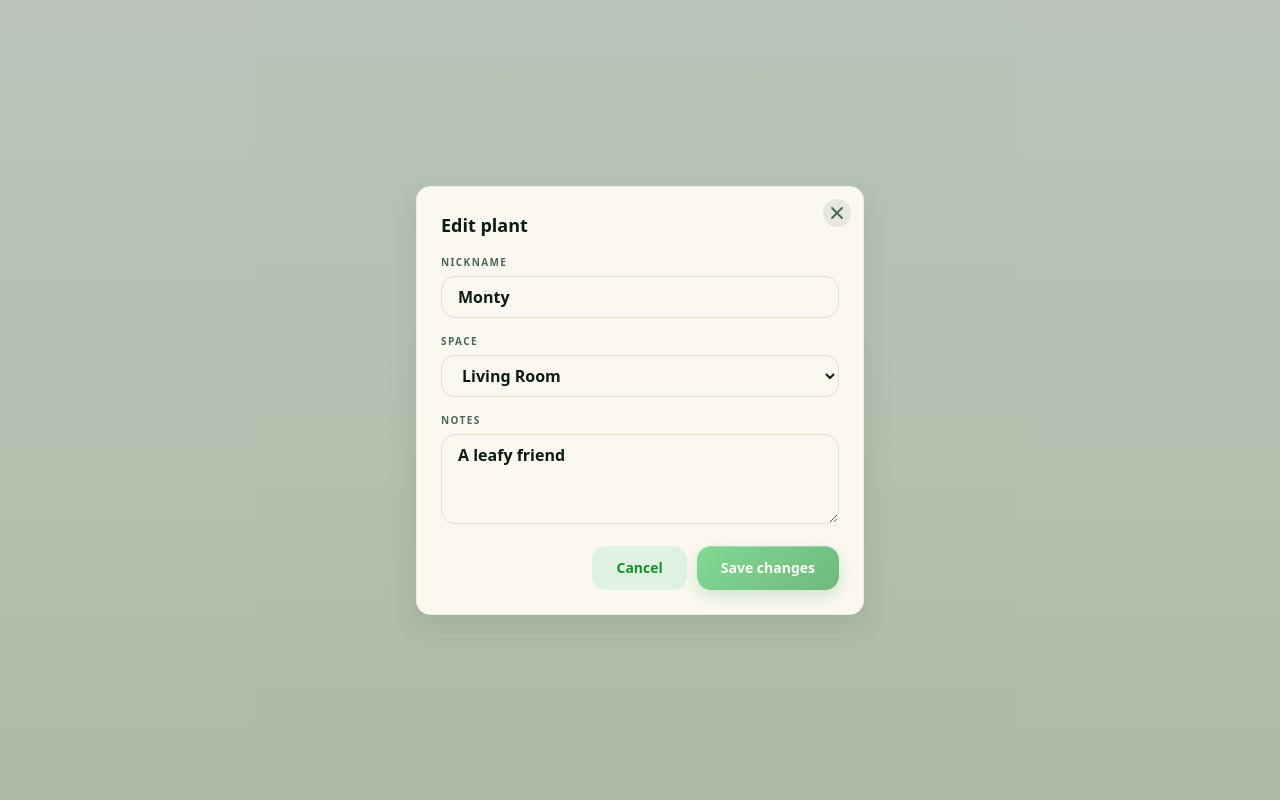
EditPlantDialog › disables Save changes until a field changes
Expected: the button "Save changes" is disabled, left=697, top=546, right=839, bottom=590
Replace the text in the field showing "Monty" with "Monty II". click: (640, 296)
box: left=441, top=276, right=839, bottom=318
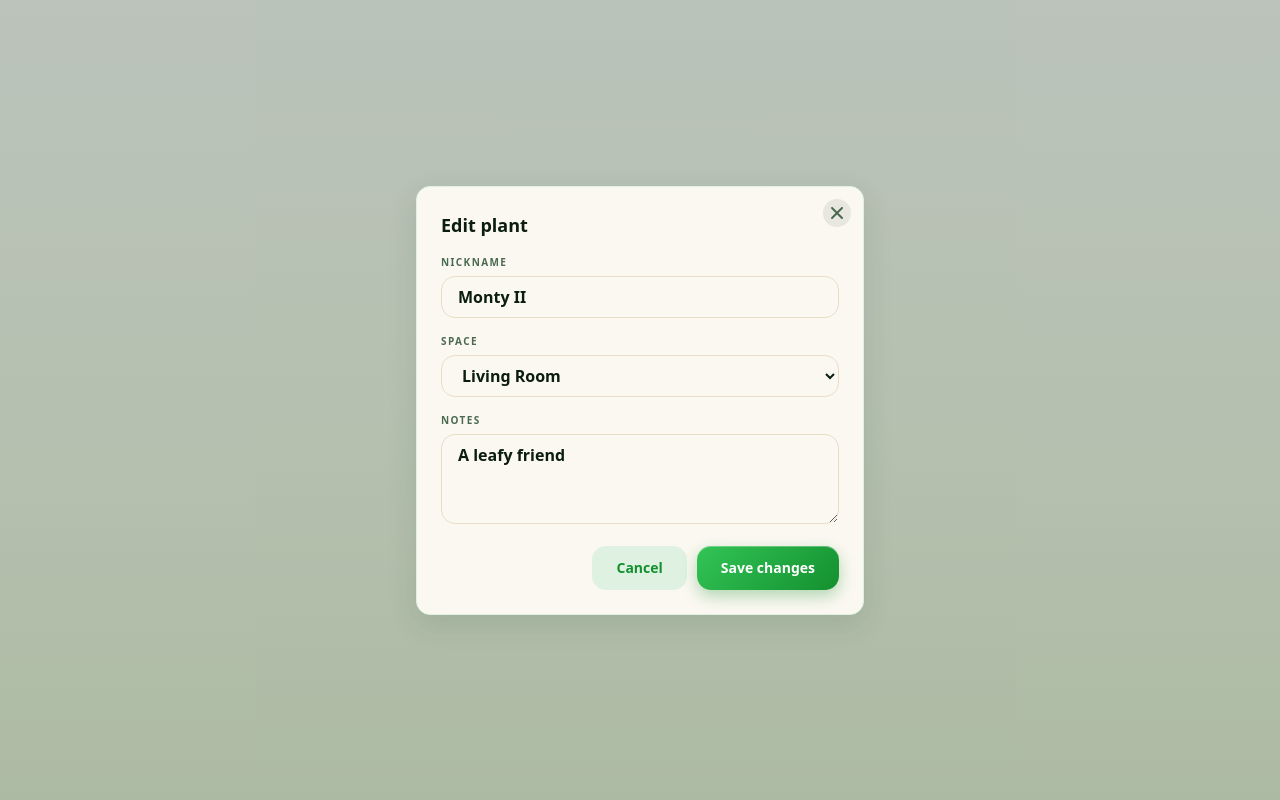
Expected: the button "Save changes" is enabled, left=697, top=546, right=839, bottom=590
